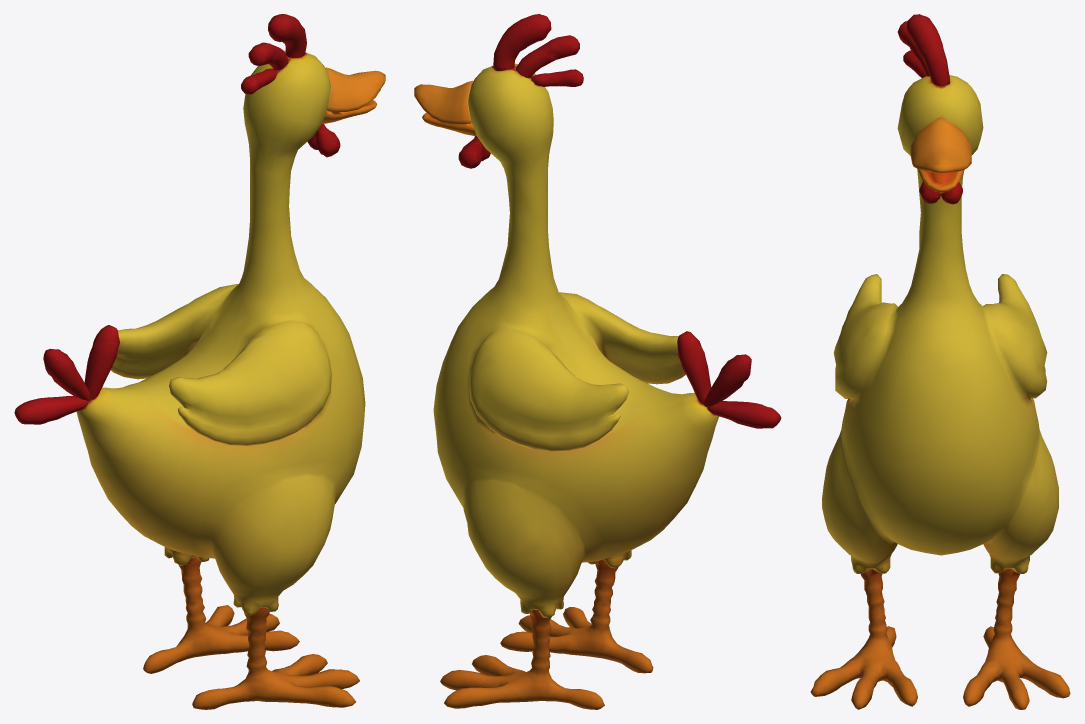
The model's file is rubber_chicken.glb.
3 renders of one model, left to right at view 1: azimuth 30°, elevation 25°; view 2: azimuth 150°, elevation 25°; view 3: azimuth 270°, elevation 25°, orthographic. The views are drawn at different scales.
Visible parts, largest first — view 1: tripo_node_9b63ca35-0c42-4dcc-aa8a-2564ea48e5d4; view 2: tripo_node_9b63ca35-0c42-4dcc-aa8a-2564ea48e5d4; view 3: tripo_node_9b63ca35-0c42-4dcc-aa8a-2564ea48e5d4.
Part boxes in pixels (x1=…): tripo_node_9b63ca35-0c42-4dcc-aa8a-2564ea48e5d4: x1=14, y1=14, x2=385, y2=709; tripo_node_9b63ca35-0c42-4dcc-aa8a-2564ea48e5d4: x1=414, y1=14, x2=781, y2=709; tripo_node_9b63ca35-0c42-4dcc-aa8a-2564ea48e5d4: x1=810, y1=14, x2=1070, y2=709.
Size of the model in its own units: 0.5879 by 0.998 by 0.3496.
Materials: 1 (1 with a texture image).
